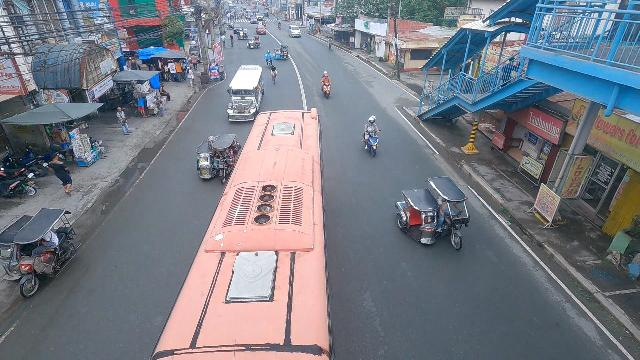bus: (151, 109, 323, 360)
car: (288, 24, 301, 38), (256, 24, 266, 36), (233, 23, 243, 34), (249, 15, 258, 25)
jeepney: (224, 65, 264, 124)
motorcycle: (319, 73, 334, 99), (264, 52, 274, 69), (278, 23, 282, 31)
